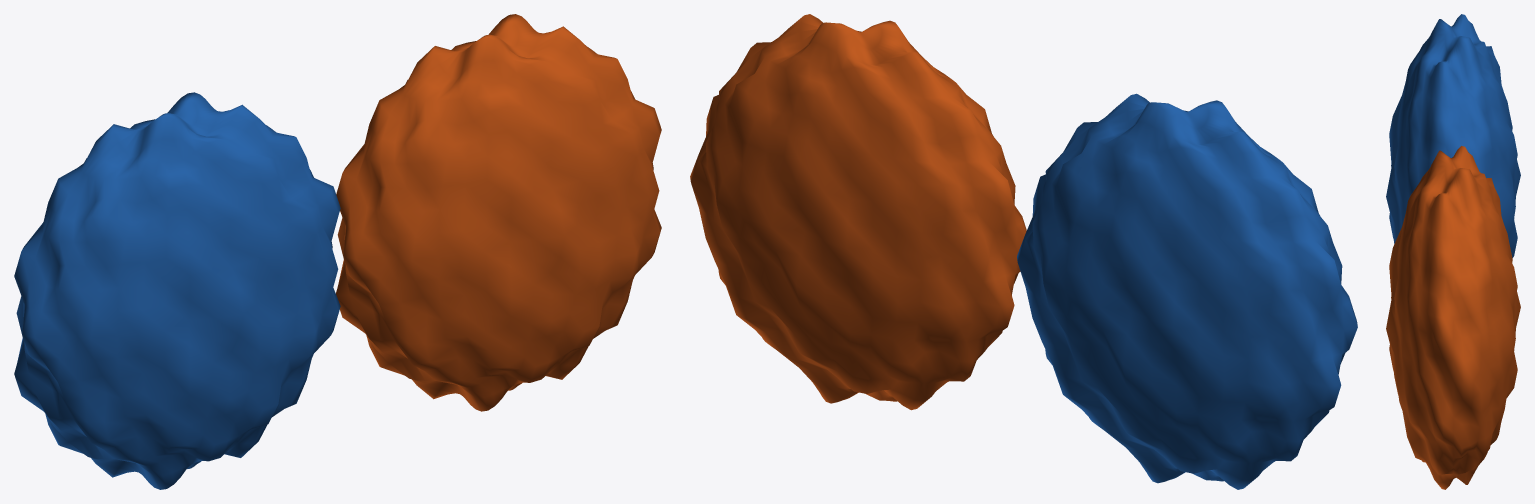
File: cortex-inflated.glb
The picture shows the model from 3 angles, left to right: view 1: azimuth 30°, elevation 25°; view 2: azimuth 150°, elevation 25°; view 3: azimuth 270°, elevation 25°; orthographic projection. The views are drawn at different scales.
Parts seen in each view (by area): view 1: cortex.left, cortex.right; view 2: cortex.left, cortex.right; view 3: cortex.right, cortex.left.
Boxes of the visible parts, left/top/right/bottom form: cortex.left: left=14, top=92, right=340, bottom=489; cortex.right: left=336, top=14, right=661, bottom=411; cortex.left: left=1017, top=93, right=1357, bottom=489; cortex.right: left=690, top=14, right=1026, bottom=410; cortex.right: left=1386, top=146, right=1520, bottom=489; cortex.left: left=1386, top=14, right=1520, bottom=257.
Bounding box in the file's own units: 4.81 × 2.66 × 1.04.
